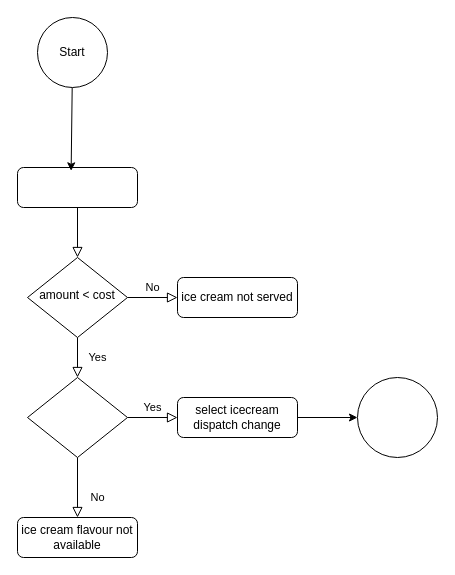
Image size: 455x575. Some labels were removed from this diagram. Each missing label, with the centre of its shape:
check flavour: the point at 77,417
end: the point at 397,417
select falvour coins: the point at 77,187
